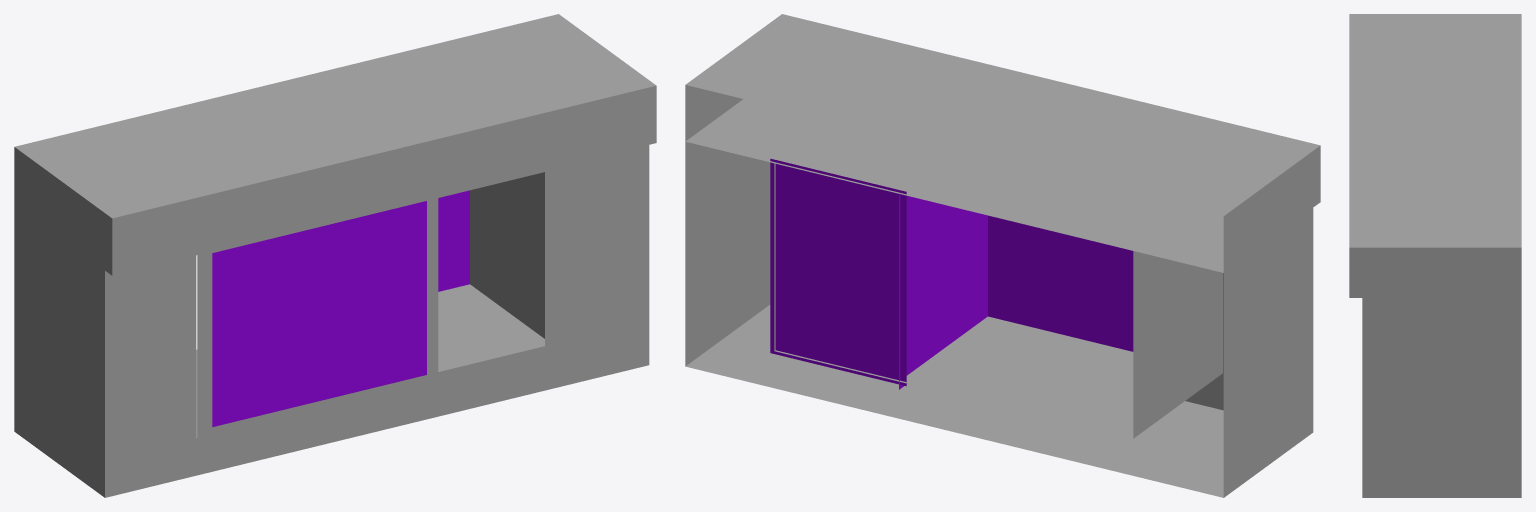
3 renders of one model, left to right at view 1: azimuth 30°, elevation 25°; view 2: azimuth 150°, elevation 25°; view 3: azimuth 270°, elevation 25°, orthographic. The views are drawn at different scales.
Parts seen in each view (by area): view 1: Cladding, Glass, Steel, Floor; view 2: Cladding, Glass, Floor; view 3: Cladding.
Boxes of the visible parts, left/top/right/bottom form: Cladding: left=14, top=14, right=656, bottom=497; Glass: left=212, top=190, right=469, bottom=427; Steel: left=197, top=166, right=560, bottom=438; Floor: left=196, top=284, right=544, bottom=437; Cladding: left=685, top=14, right=1320, bottom=497; Glass: left=770, top=158, right=1133, bottom=389; Floor: left=775, top=316, right=1133, bottom=438; Cladding: left=1349, top=14, right=1521, bottom=497.
Size of the model in its own units: 6 by 3 by 1.87.
